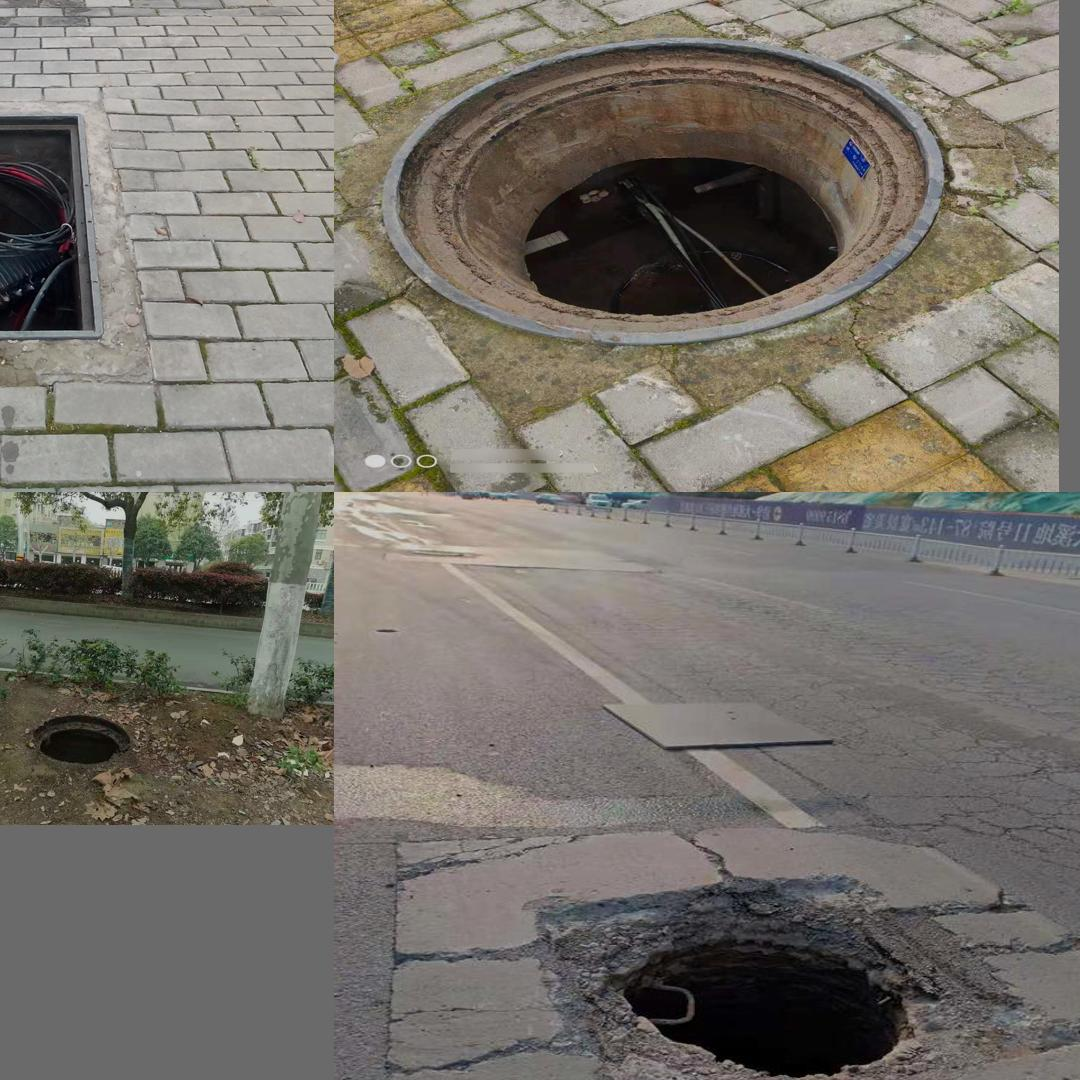lose: (376, 35, 946, 349), (513, 856, 1034, 1080), (0, 94, 164, 396), (32, 714, 133, 766)
